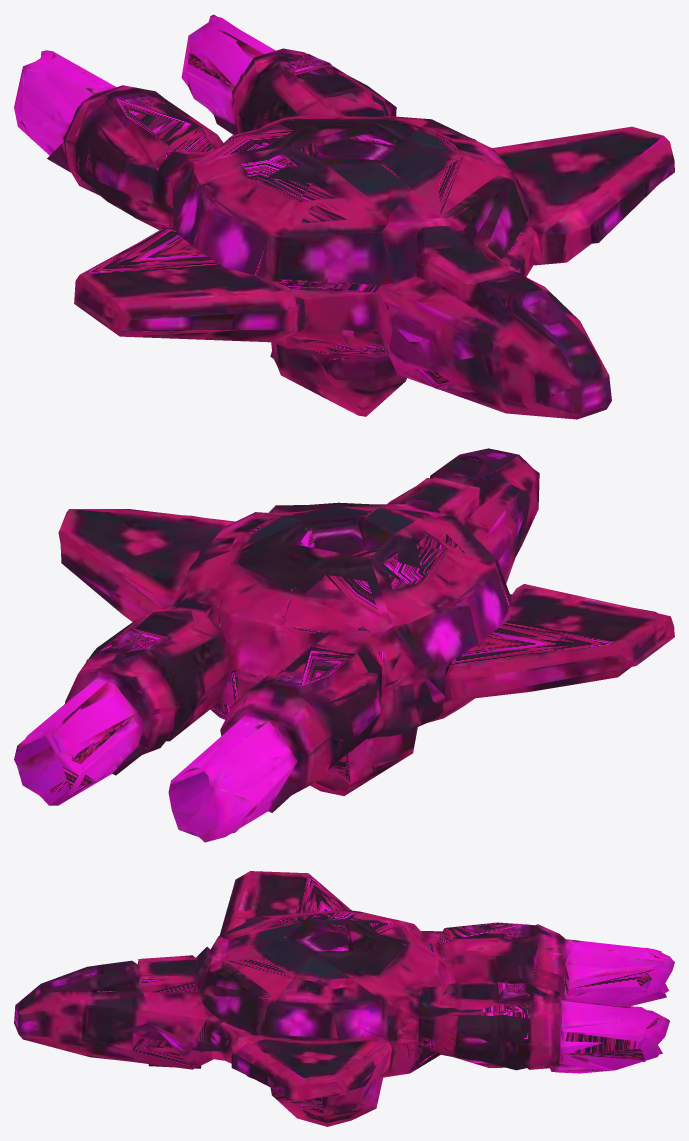
File: boss-hive.glb
3 views of the same model, one above another, from view 1: azimuth 30°, elevation 25°; view 2: azimuth 150°, elevation 25°; view 3: azimuth 270°, elevation 25° (orthographic). The views are drawn at different scales.
Bounding box in the file's own units: 0.9292 × 0.392 × 1.23.
1 material, 1 textured.
